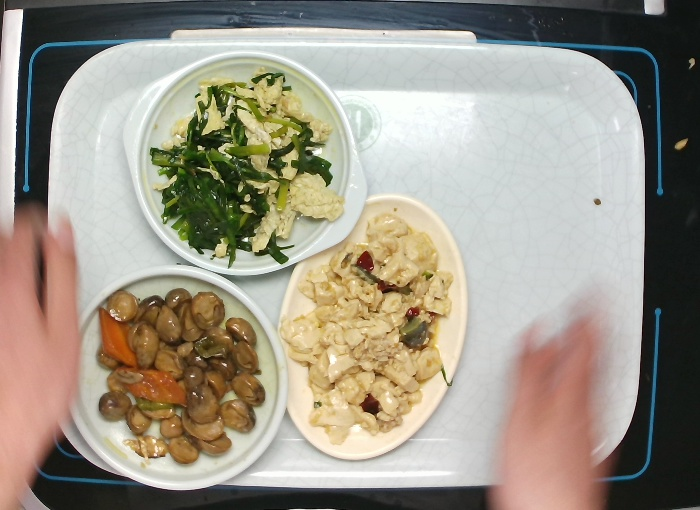JYsf-Shuang_Er_Pan: (112, 45, 373, 281)
JYsf-Tuo_Yuan_Wan: (274, 192, 468, 466)
JYsf-Xiao_Yuan_Pan: (57, 254, 298, 494)
